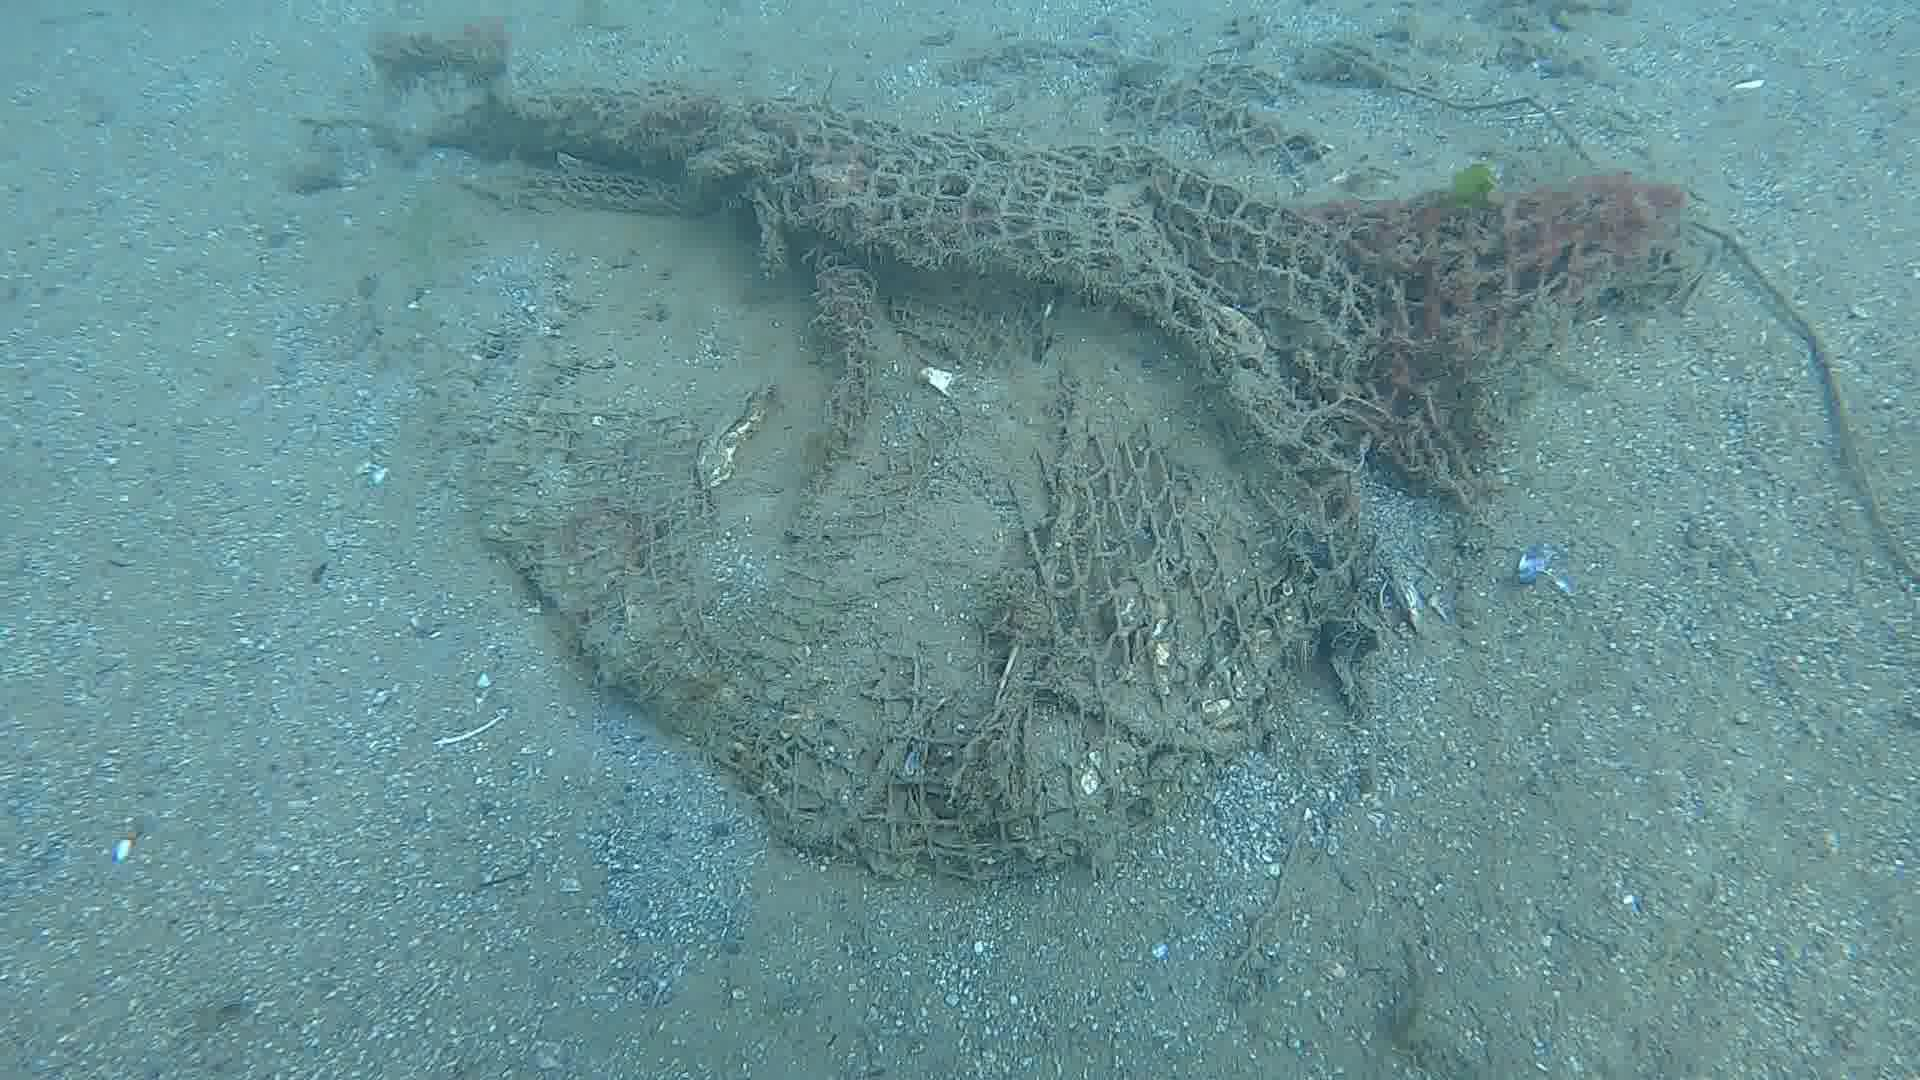fish net: (481, 98, 1636, 887)
